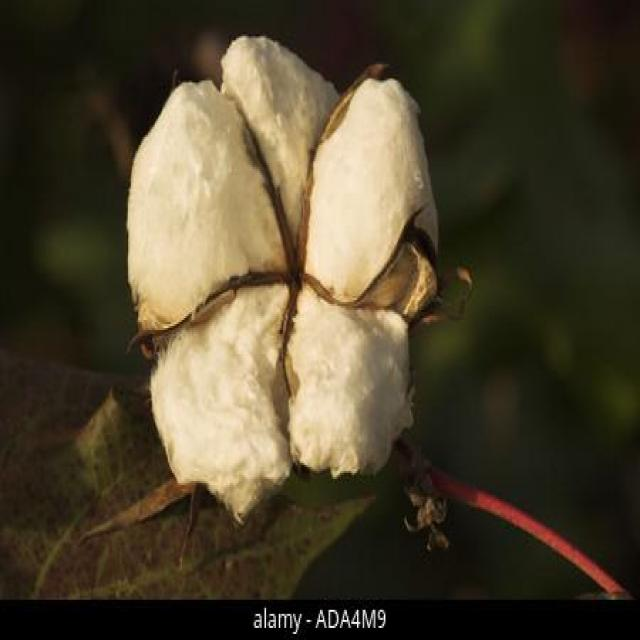Late_blight: (116, 25, 450, 536)
